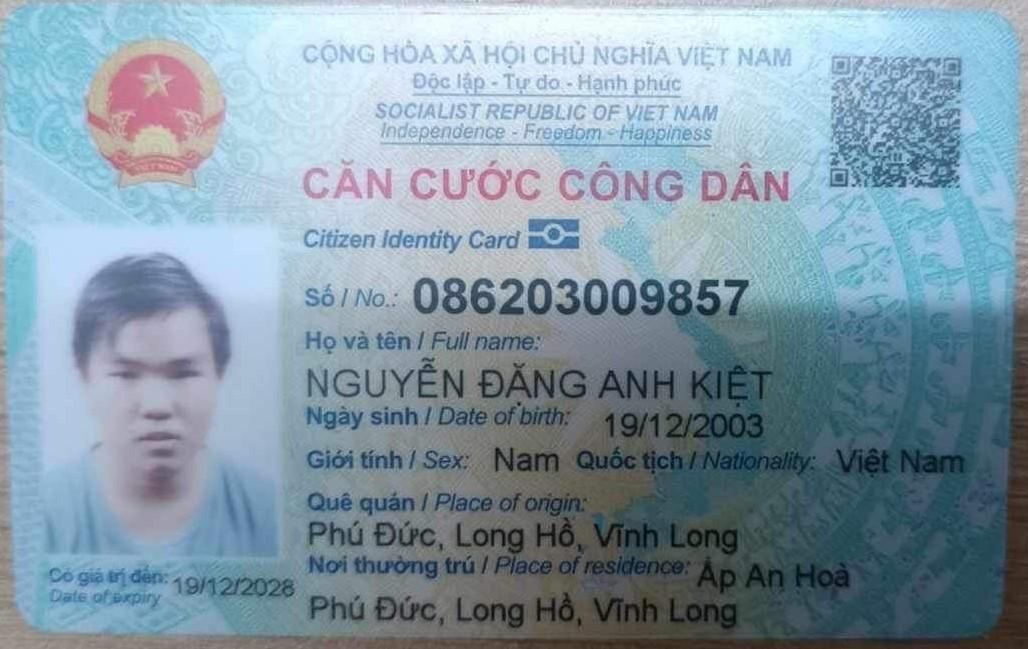ID: (409, 269, 756, 323)
birth: (604, 404, 771, 446)
name: (304, 359, 775, 407)
place: (304, 516, 749, 556)
residence: (303, 587, 747, 638), (696, 554, 853, 599)
